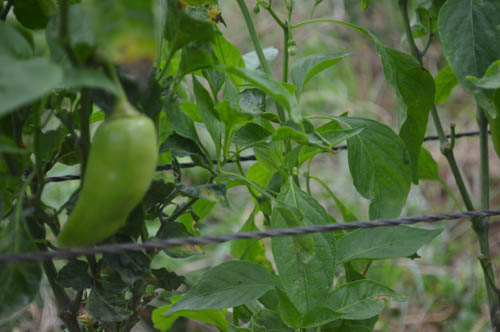ChiliPepper: (60, 122, 155, 247)
